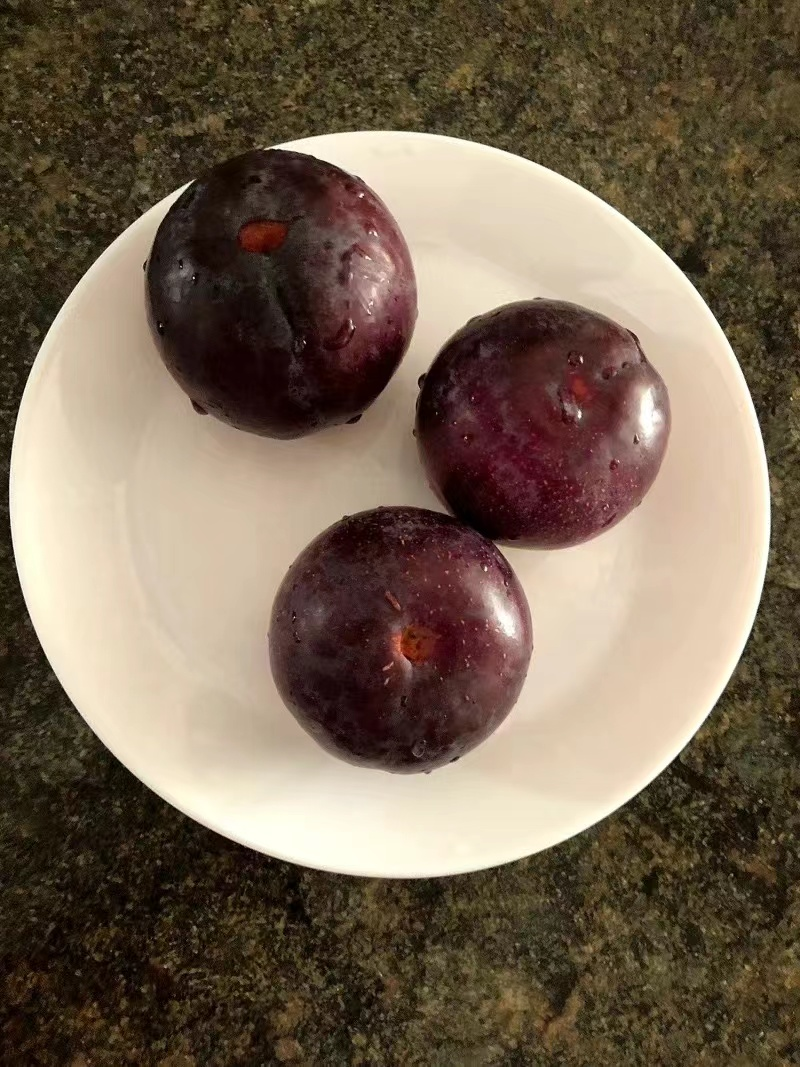plum_A: (415, 297, 670, 552)
plum_B: (144, 149, 415, 440), (267, 506, 533, 775)
